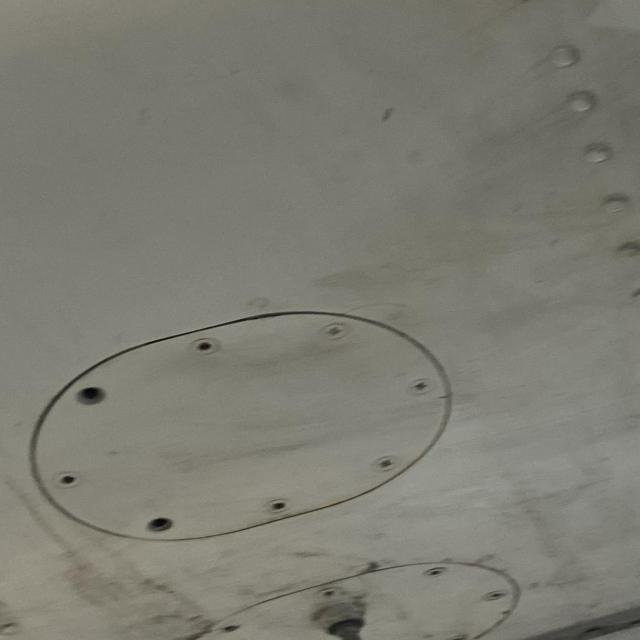Missing-head: (78, 386, 108, 406), (145, 515, 174, 533)
